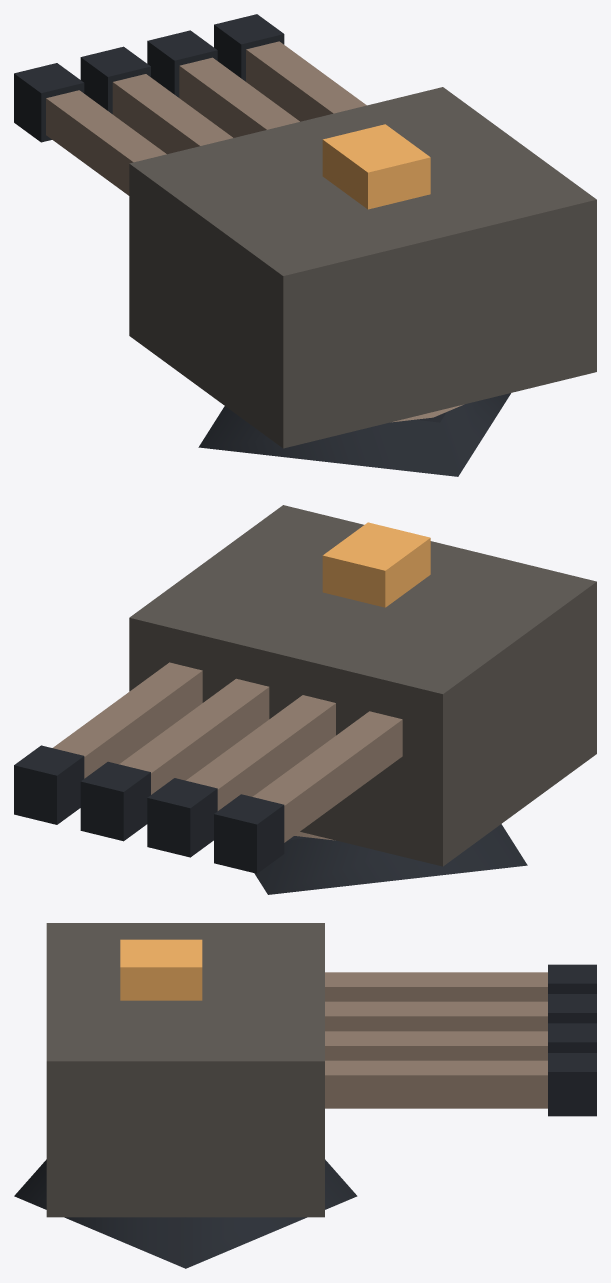
File: compact_high_gravity--point_defense.glb
3 renders of one model, top to bottom at view 1: azimuth 30°, elevation 25°; view 2: azimuth 150°, elevation 25°; view 3: azimuth 270°, elevation 25°, orthographic. The views are drawn at different scales.
Parts seen in each view (by area): view 1: armored_module_housing_3, mount_adapter_1, targeting_unit_12, weapon_barrel_4, weapon_barrel_6, weapon_barrel_8, weapon_barrel_10, muzzle_5, muzzle_9, muzzle_7, muzzle_11; view 2: armored_module_housing_3, mount_adapter_1, weapon_barrel_4, weapon_barrel_8, weapon_barrel_10, weapon_barrel_6, targeting_unit_12, muzzle_5, muzzle_9, muzzle_7, muzzle_11; view 3: armored_module_housing_3, weapon_barrel_10, mount_adapter_1, weapon_barrel_6, weapon_barrel_4, weapon_barrel_8, targeting_unit_12, muzzle_11, muzzle_5, muzzle_7, muzzle_9.
Part boxes in pixels (<box>): armored_module_housing_3: <box>129,87,596,448</box>; mount_adapter_1: <box>198,393,510,476</box>; targeting_unit_12: <box>322,124,430,209</box>; weapon_barrel_4: <box>46,90,166,195</box>; weapon_barrel_6: <box>112,74,232,154</box>; weapon_barrel_8: <box>179,57,299,137</box>; weapon_barrel_10: <box>246,41,366,121</box>; muzzle_5: <box>14,63,84,142</box>; muzzle_9: <box>147,30,217,97</box>; muzzle_7: <box>80,46,150,113</box>; muzzle_11: <box>214,14,284,81</box>; armored_module_housing_3: <box>129,505,596,866</box>; mount_adapter_1: <box>254,824,527,894</box>; weapon_barrel_4: <box>253,711,402,842</box>; weapon_barrel_8: <box>119,678,269,794</box>; weapon_barrel_10: <box>53,662,202,778</box>; weapon_barrel_6: <box>186,695,335,810</box>; targeting_unit_12: <box>322,522,430,607</box>; muzzle_5: <box>214,794,284,873</box>; muzzle_9: <box>80,761,150,841</box>; muzzle_7: <box>147,778,217,857</box>; muzzle_11: <box>14,745,84,824</box>; armored_module_housing_3: <box>46,923,324,1217</box>; weapon_barrel_10: <box>325,1060,547,1108</box>; mount_adapter_1: <box>14,1159,357,1268</box>; weapon_barrel_6: <box>325,1001,547,1031</box>; weapon_barrel_4: <box>325,972,547,1001</box>; weapon_barrel_8: <box>325,1031,547,1060</box>; targeting_unit_12: <box>120,939,202,1000</box>; muzzle_11: <box>548,1053,596,1116</box>; muzzle_5: <box>548,964,596,993</box>; muzzle_7: <box>548,994,596,1023</box>; muzzle_9: <box>548,1023,596,1052</box>.
Size of the model in its own units: 5.04 by 3.93 by 8.55.
